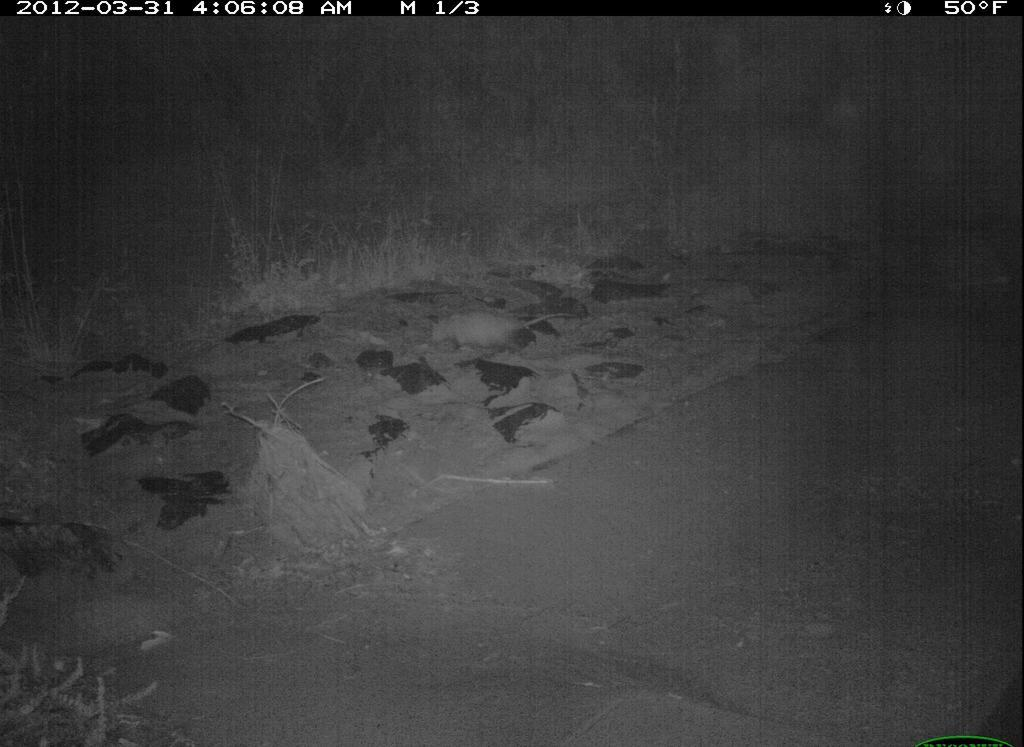opossum: (419, 287, 587, 356)
